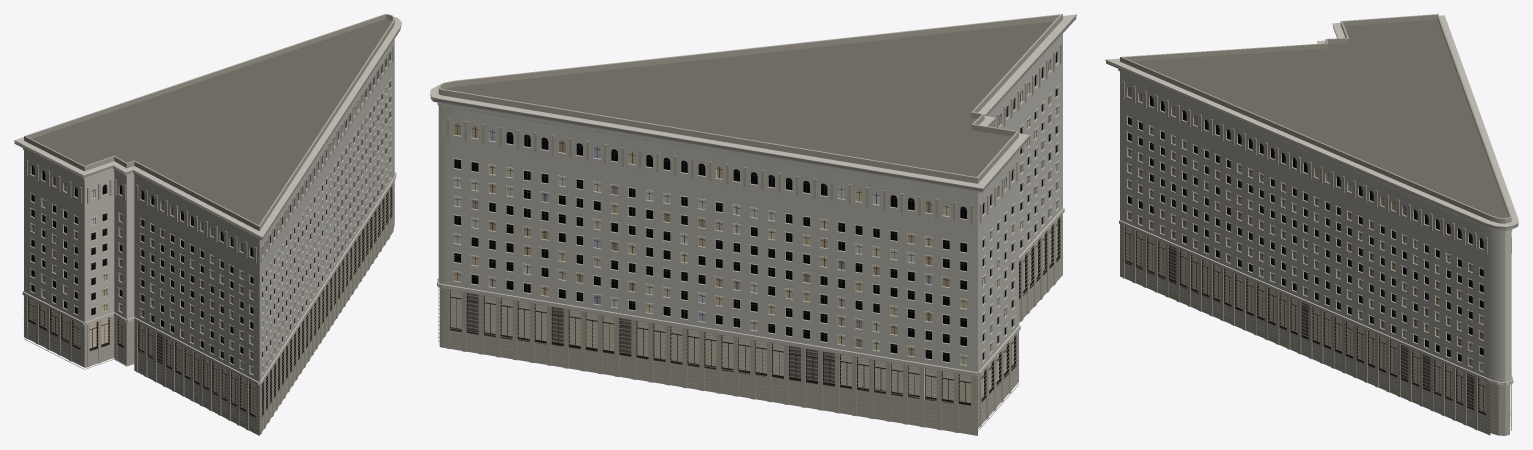
File: phelan_lod0.glb
3 renders of one model, left to right at view 1: azimuth 30°, elevation 25°; view 2: azimuth 150°, elevation 25°; view 3: azimuth 270°, elevation 25°, orthographic. The views are drawn at different scales.
Parts seen in each view (by area): view 1: L0_stone, L0_roof, L0_metal, L0_win, L0_shop; view 2: L0_stone, L0_roof, L0_win, L0_shop, L0_metal; view 3: L0_stone, L0_roof, L0_win, L0_metal, L0_shop.
Boxes of the visible parts, x1=… form: L0_stone: x1=14, y1=14, x2=401, y2=435; L0_roof: x1=32, y1=19, x2=392, y2=225; L0_metal: x1=28, y1=53, x2=392, y2=418; L0_win: x1=31, y1=52, x2=390, y2=373; L0_shop: x1=29, y1=189, x2=390, y2=415; L0_stone: x1=430, y1=14, x2=1076, y2=435; L0_roof: x1=444, y1=21, x2=1053, y2=176; L0_win: x1=454, y1=52, x2=1057, y2=364; L0_shop: x1=450, y1=220, x2=1057, y2=403; L0_metal: x1=450, y1=53, x2=1060, y2=405; L0_stone: x1=1105, y1=14, x2=1518, y2=435; L0_roof: x1=1133, y1=19, x2=1508, y2=218; L0_win: x1=1128, y1=87, x2=1483, y2=371; L0_metal: x1=1124, y1=87, x2=1510, y2=415; L0_shop: x1=1126, y1=227, x2=1485, y2=412.
Size of the model in its own units: 94.94 by 45.92 by 78.39.
